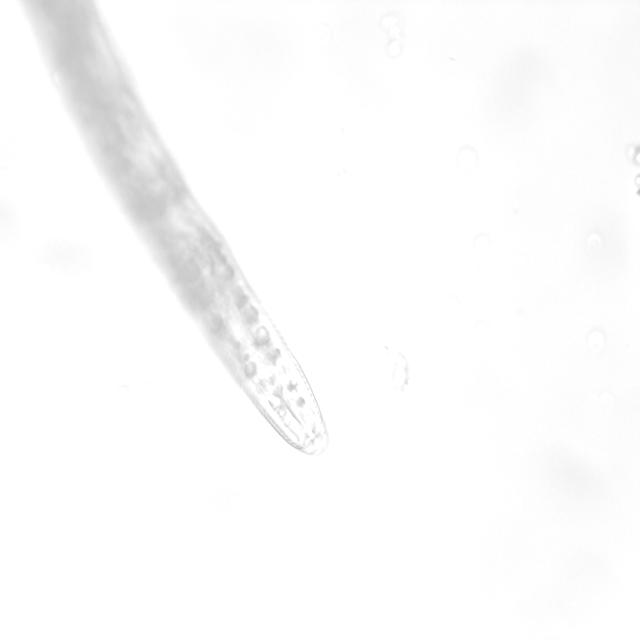Meloidogyne: (212, 307, 346, 478)
